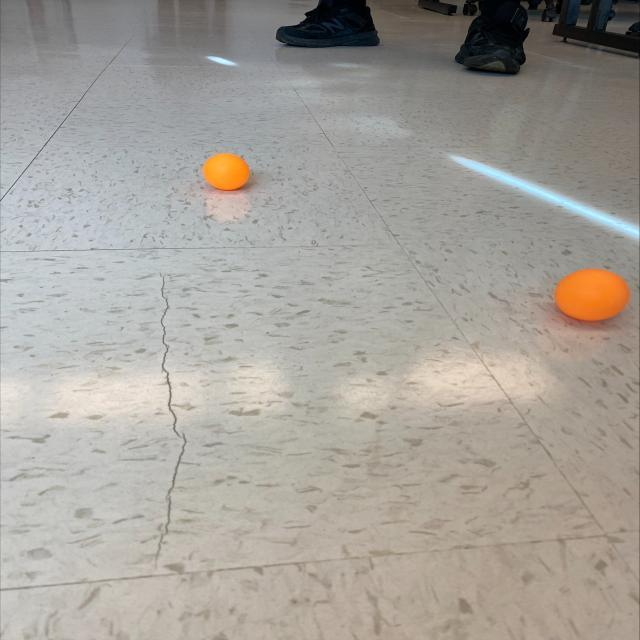ping-pong-ball: (550, 266, 631, 324), (200, 152, 252, 192)
